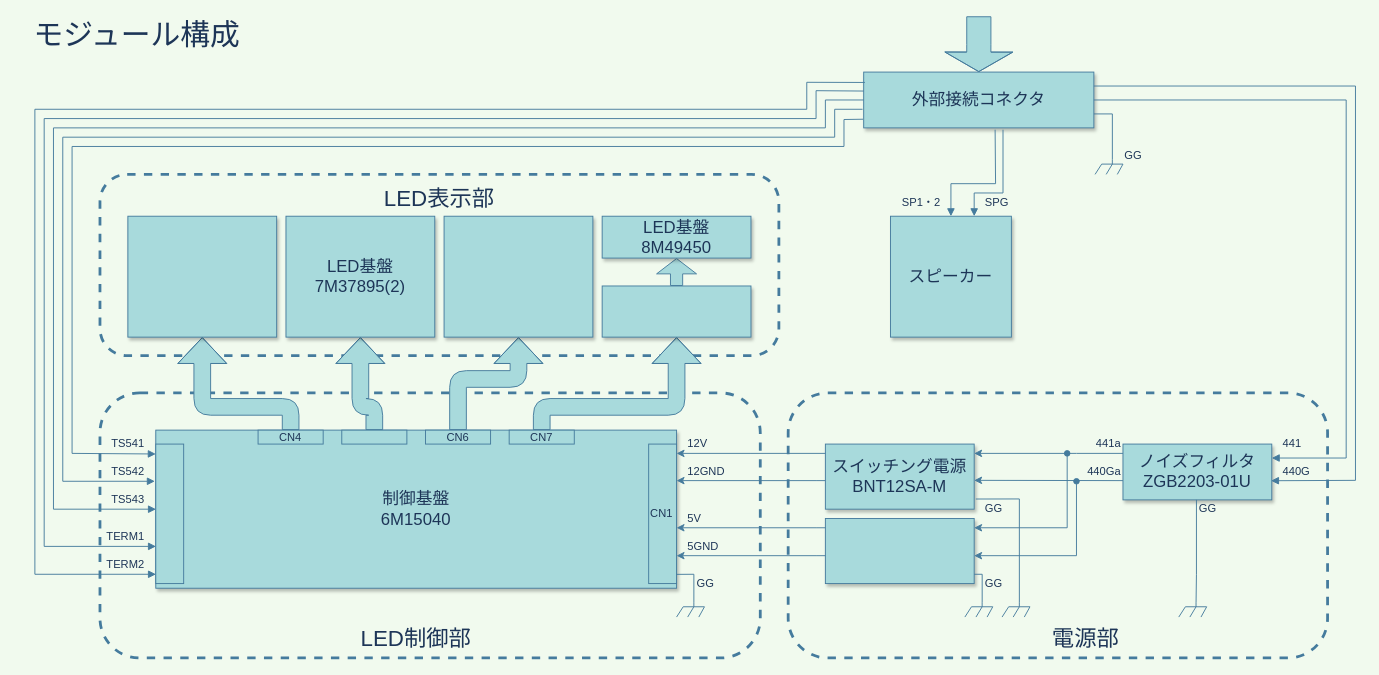
This 1379x675 diagram has some shape labels left out. Each missing label, with the centre of its shape:
"CN2" belongs at point (169, 513).
"CN5" belongs at point (374, 436).
"LED基盤 7M37895(1)" belongs at point (202, 278).
"LED基盤 7M37895(3)" belongs at point (518, 278).
"LED基盤 7M37896" belongs at point (677, 312).
"スイッチング電源 SVS05SA" belongs at point (900, 552).
